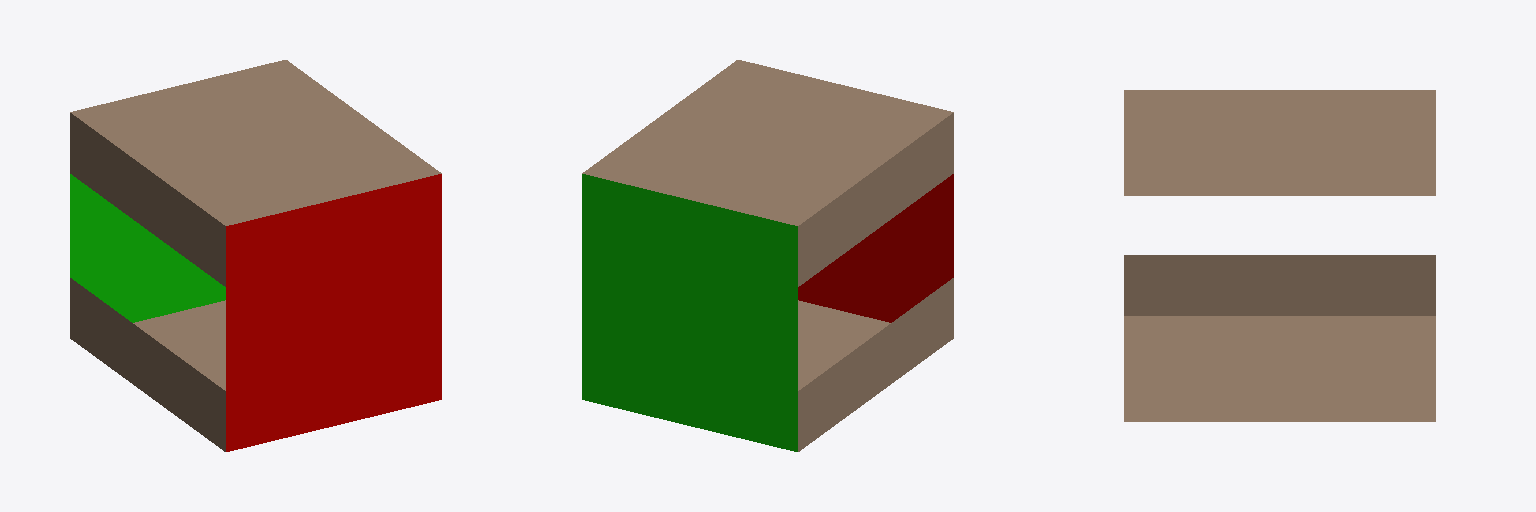
File: Cornell_box.obj
3 views of the same model, side by side, from view 1: azimuth 30°, elevation 25°; view 2: azimuth 150°, elevation 25°; view 3: azimuth 270°, elevation 25° (orthographic).
Parts seen in each view (by area): view 1: Cube_Cube.001; view 2: Cube_Cube.001; view 3: Cube_Cube.001.
Boxes of the visible parts, <box> form: Cube_Cube.001: <box>70,60,441,451</box>; Cube_Cube.001: <box>582,60,953,451</box>; Cube_Cube.001: <box>1124,90,1435,421</box>.
Size of the model in its own units: 40 by 40 by 50.